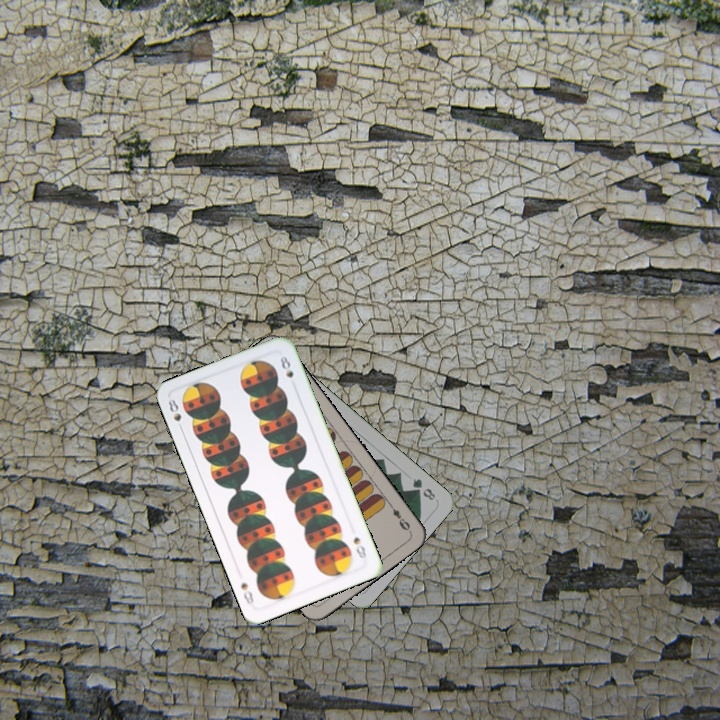E9: (385, 499, 413, 533)
G8: (408, 474, 438, 503)
S8: (164, 395, 186, 434), (349, 533, 369, 562)
